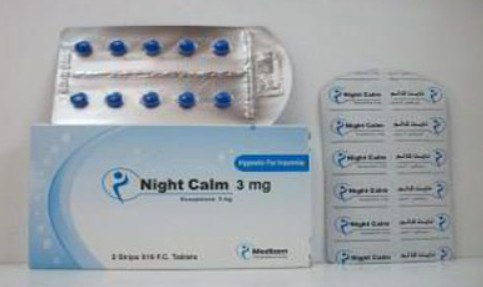Medicine: (24, 120, 315, 273), (315, 68, 458, 270)
